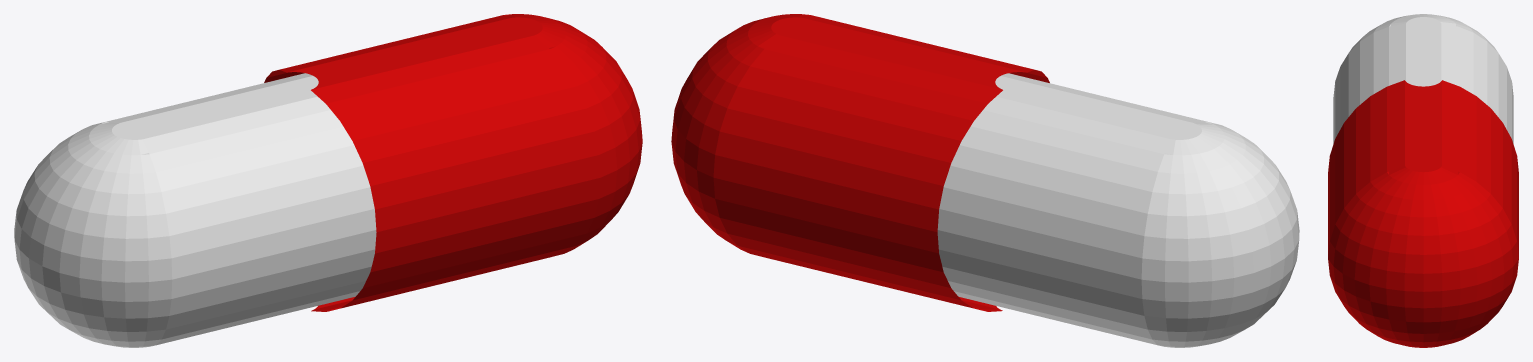
Rendered from pill (1).fbx.
The picture shows the model from 3 angles, left to right: view 1: azimuth 30°, elevation 25°; view 2: azimuth 150°, elevation 25°; view 3: azimuth 270°, elevation 25°; orthographic projection. The views are drawn at different scales.
Parts seen in each view (by area): view 1: Sphere; view 2: Sphere; view 3: Sphere.
Boxes of the visible parts, x1=… form: Sphere: x1=14, y1=14, x2=642, y2=347; Sphere: x1=671, y1=14, x2=1299, y2=347; Sphere: x1=1328, y1=14, x2=1518, y2=347.
Size of the model in its own units: 6.01 by 2.12 by 2.12.
